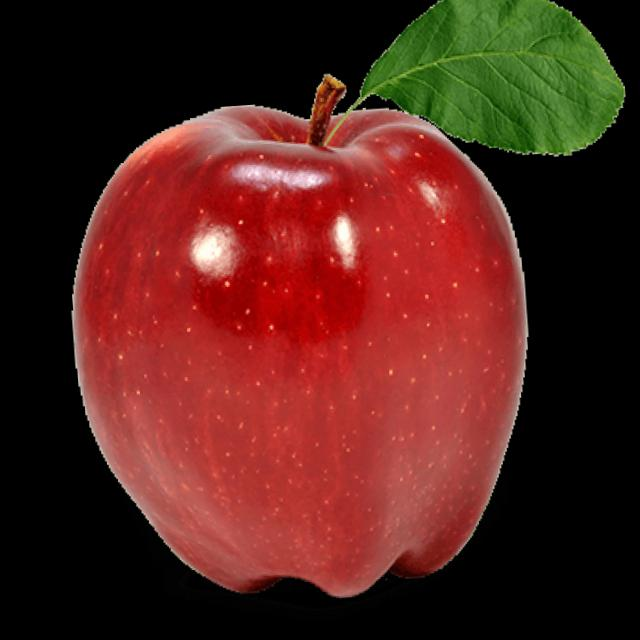apple: (58, 61, 554, 618)
